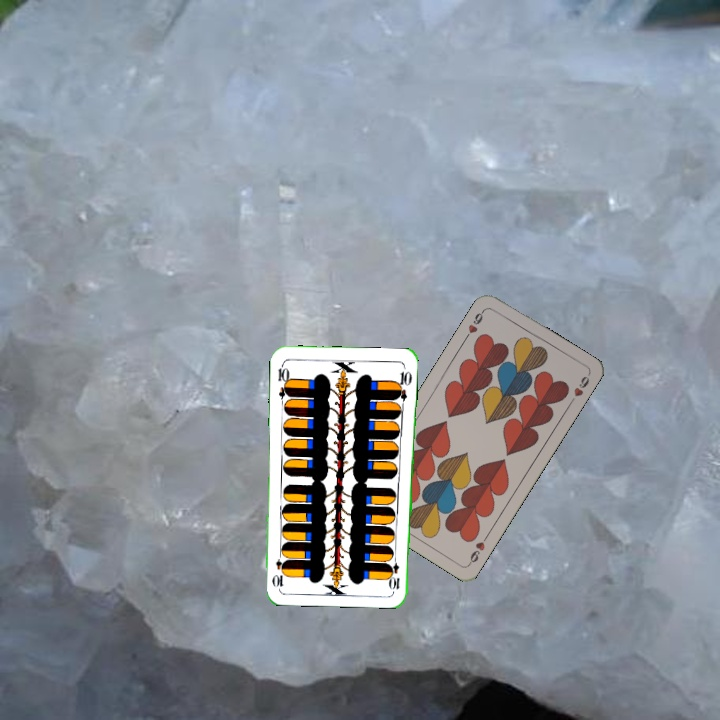E10: (274, 360, 292, 400), (388, 551, 402, 592)
H9: (465, 530, 491, 567), (461, 305, 487, 342)
